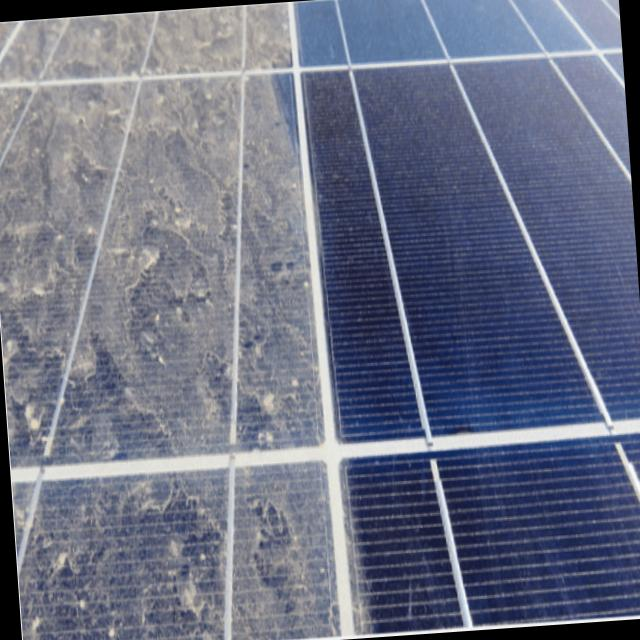faulty: (296, 0, 640, 639), (0, 5, 337, 640)
